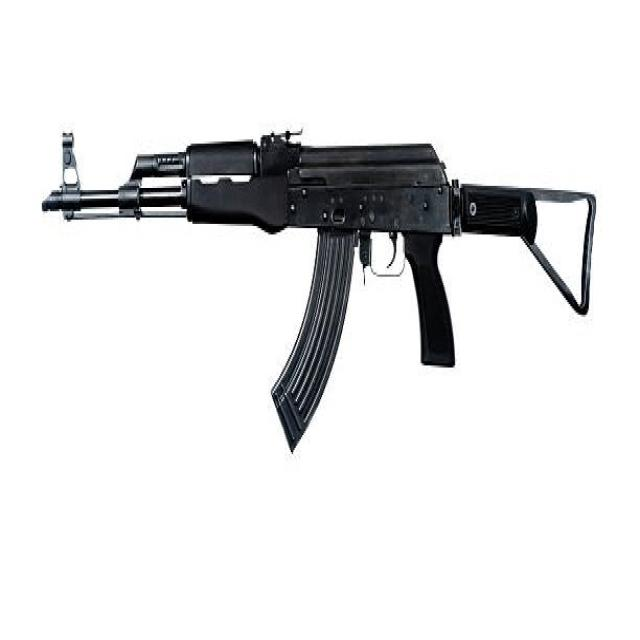rifle: (43, 112, 607, 473)
